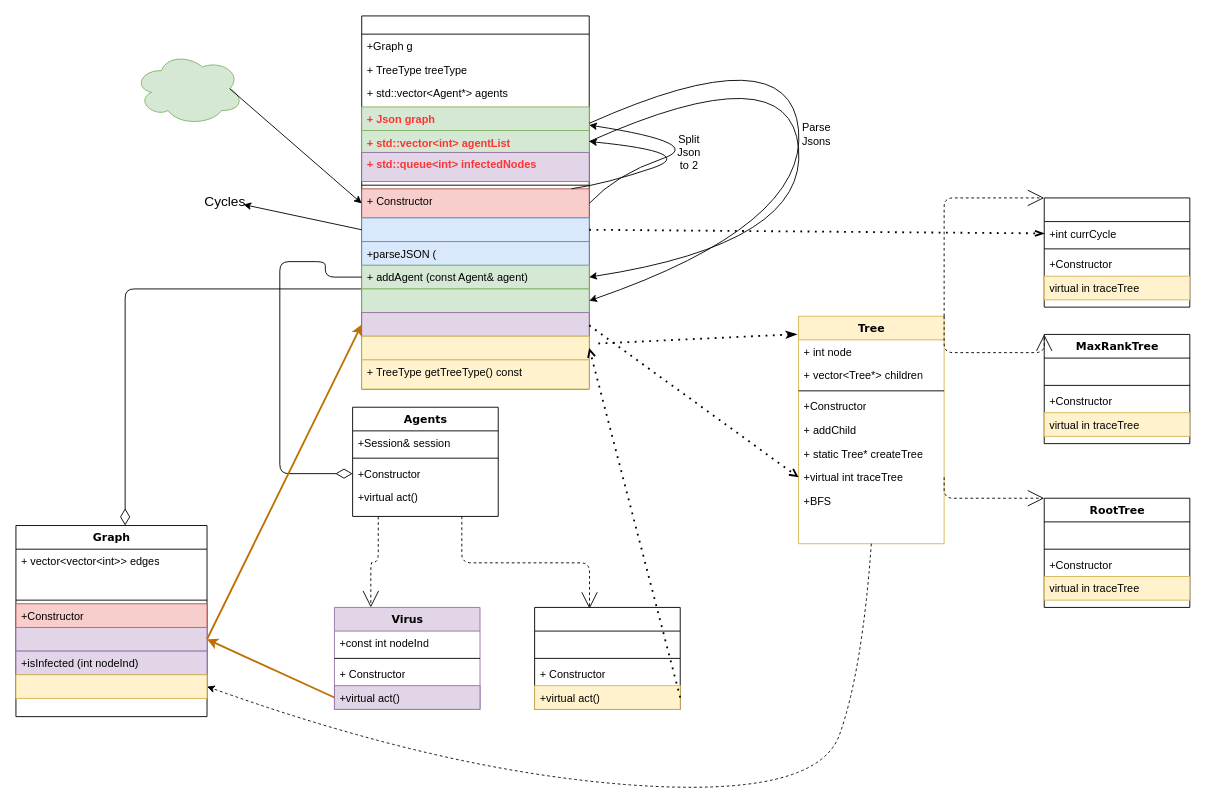
Some shapes in this 1206 by 804 pixel diagram are drawn without their labels. Here are the shapes that lost their labels. From the top down, the box of each, then its label:
(133, 51, 243, 125): JSON
(361, 15, 589, 389): Session
(361, 217, 589, 242): + simulate()
(1043, 197, 1190, 307): CycleTree
(361, 288, 589, 313): + setGraph (const Graph& graph)
(361, 312, 589, 336): + enqueueInfected(int)
(361, 335, 589, 360): + dequeueInfected()
(15, 627, 207, 651): +infectNode (int nodeInd)
(534, 607, 680, 709): contactTracer
(15, 674, 207, 698): +isolateNode (int nodeInd)
